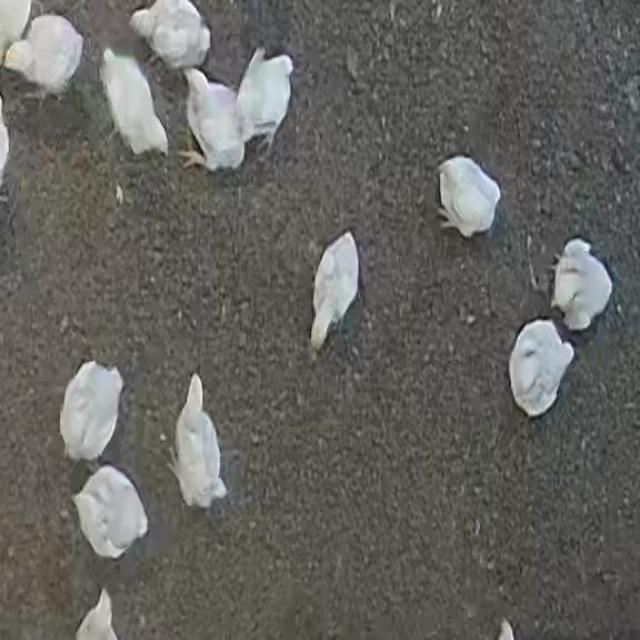chicken: (170, 374, 228, 508), (98, 47, 168, 158), (180, 68, 250, 173), (72, 465, 150, 559), (3, 14, 84, 99), (58, 361, 124, 465), (507, 320, 575, 416), (235, 46, 294, 150), (311, 231, 361, 352), (130, 0, 212, 72), (552, 239, 614, 330), (439, 158, 500, 238)
